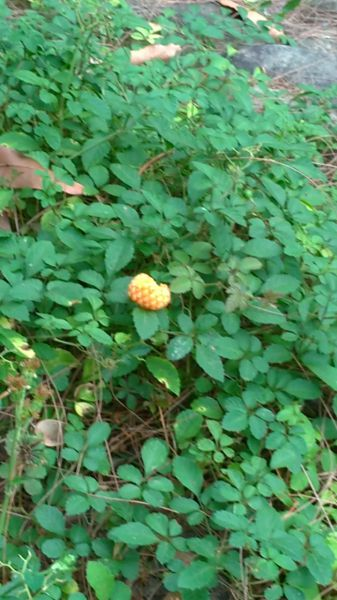eggs: (120, 271, 177, 312)
